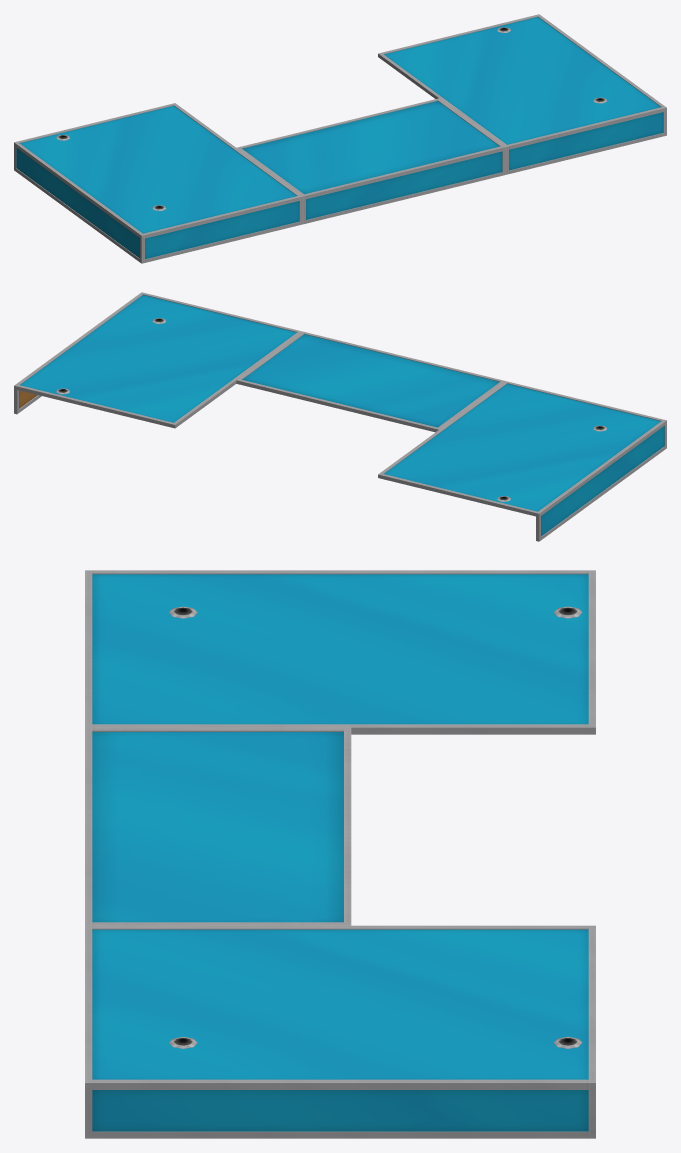
Rendered from jsf_4P_s02_c02_t04_DX.fbx.
3 views of the same model, one above another, from view 1: azimuth 30°, elevation 25°; view 2: azimuth 150°, elevation 25°; view 3: azimuth 270°, elevation 25° (orthographic). The views are drawn at different scales.
Visible parts, largest first — view 1: jsf_4P_s02_c02_t04_DX; view 2: jsf_4P_s02_c02_t04_DX; view 3: jsf_4P_s02_c02_t04_DX.
Part boxes in pixels (x1=…): jsf_4P_s02_c02_t04_DX: x1=14, y1=14, x2=666, y2=263; jsf_4P_s02_c02_t04_DX: x1=14, y1=292, x2=666, y2=541; jsf_4P_s02_c02_t04_DX: x1=85, y1=570, x2=595, y2=1138.
Size of the model in its own units: 246 by 12.99 by 104.
